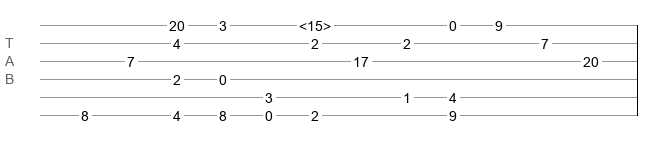0: (219, 72, 227, 82), (265, 108, 273, 118), (449, 18, 457, 28)
1: (403, 90, 411, 100)
17: (353, 54, 369, 64)
2: (173, 72, 181, 82), (311, 36, 319, 46), (311, 108, 319, 118), (403, 36, 411, 46)
20: (169, 18, 185, 28), (583, 54, 599, 64)
3: (219, 18, 227, 28), (265, 90, 273, 100)
4: (173, 108, 181, 118), (173, 36, 181, 46), (449, 90, 457, 100)
7: (127, 54, 135, 64), (541, 36, 549, 46)
8: (81, 108, 89, 118), (219, 108, 227, 118)
9: (449, 108, 457, 118), (495, 18, 503, 28)
harmonic: (299, 18, 331, 28)
